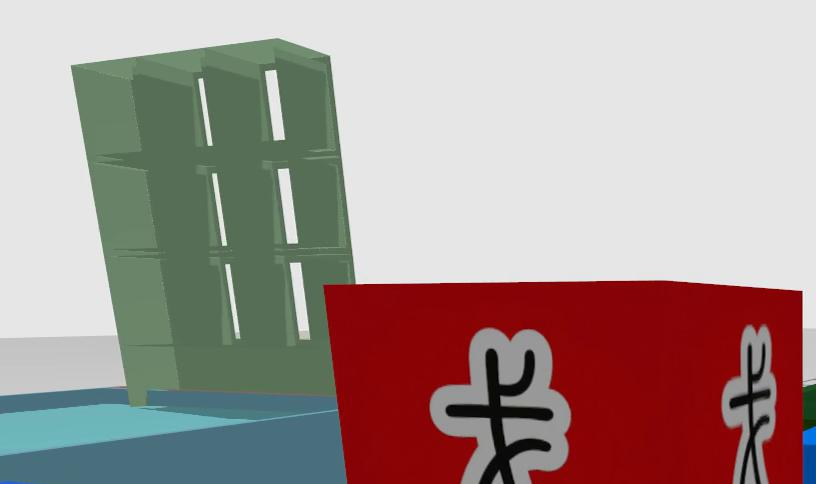KFS_FAKE: (326, 281, 802, 484), (431, 328, 570, 484), (721, 327, 776, 484)
KFS_REAL: (804, 426, 816, 484), (0, 482, 37, 484)
